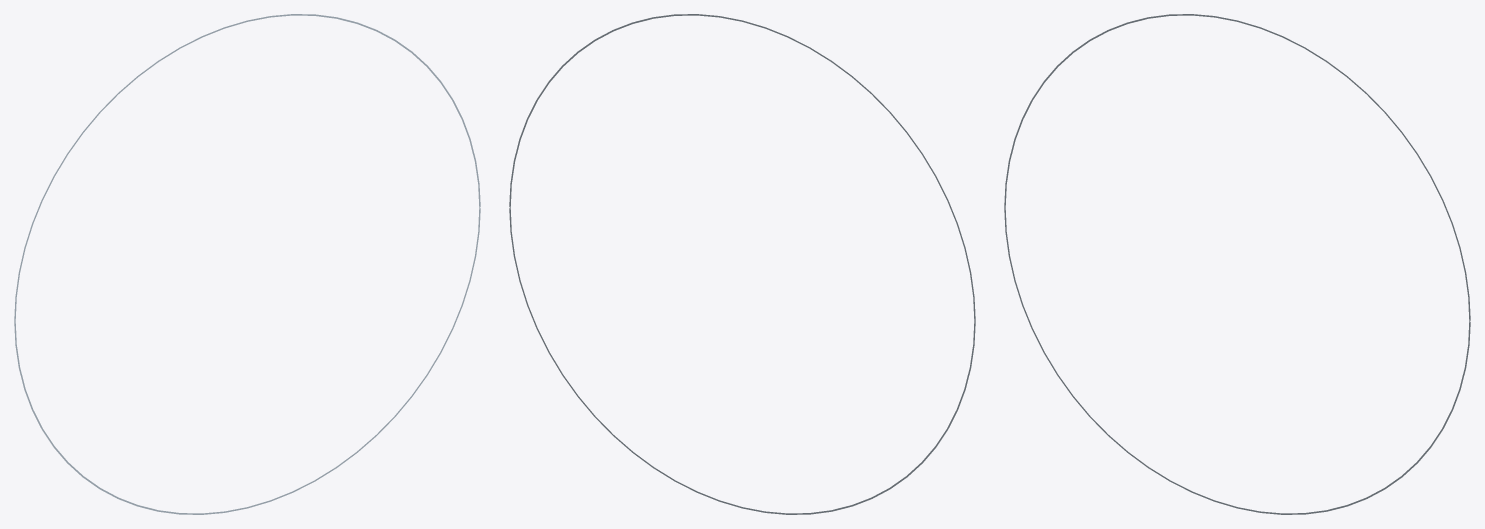
File: Tartaglia_HavocRanged_MarkHandoff_WaveAfterglow.fbx
The picture shows the model from 3 angles, left to right: view 1: azimuth 30°, elevation 25°; view 2: azimuth 150°, elevation 25°; view 3: azimuth 330°, elevation 25°; orthographic projection.
Visible parts, largest first — view 1: PART_WaveAfterglow; view 2: PART_WaveAfterglow; view 3: PART_WaveAfterglow.
Boxes of the visible parts, bbox=[...] form: PART_WaveAfterglow: bbox=[14, 14, 480, 514]; PART_WaveAfterglow: bbox=[509, 14, 975, 514]; PART_WaveAfterglow: bbox=[1004, 14, 1470, 514].
Bounding box in the file's own units: 4815 × 4815 × 0.000784.
